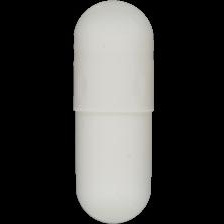31722-544: (0, 0, 224, 224)
